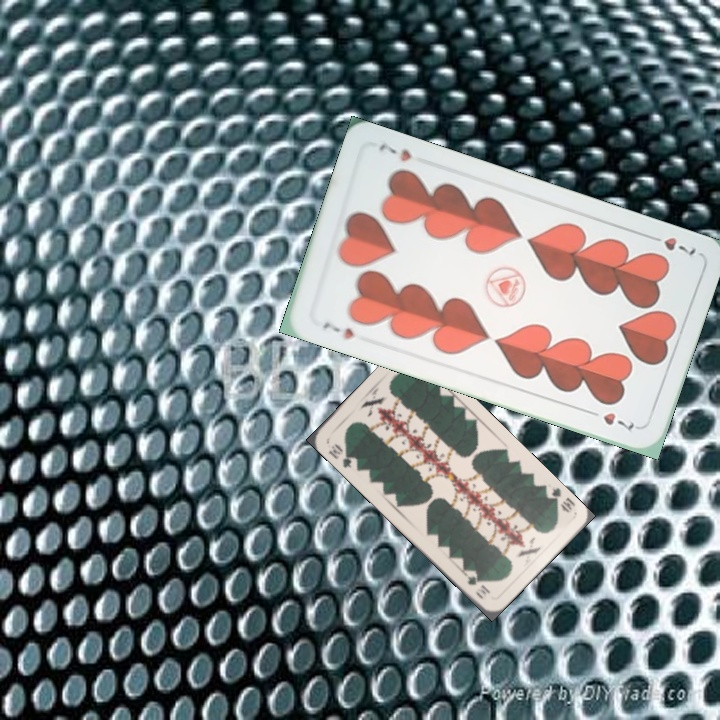G10: (541, 484, 577, 515), (324, 439, 356, 471)
H7: (643, 230, 699, 258), (318, 317, 357, 342)
